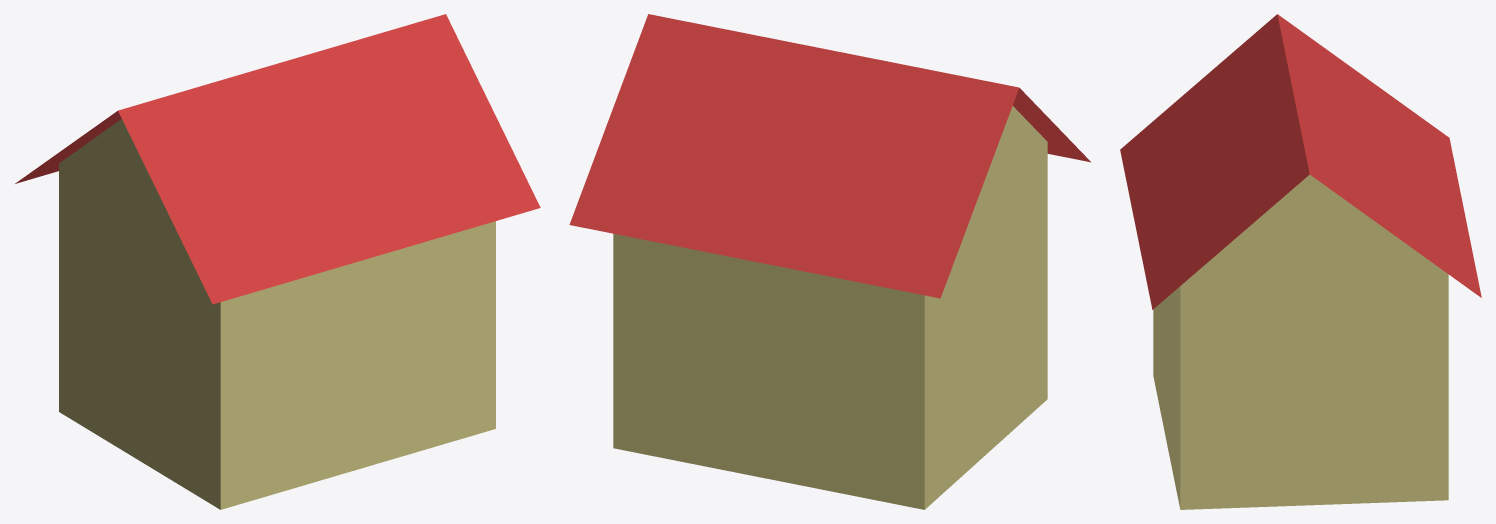
3 views of the same model, side by side, from view 1: azimuth 30°, elevation 25°; view 2: azimuth 150°, elevation 25°; view 3: azimuth 270°, elevation 25° (orthographic). The views are drawn at different scales.
Bounding box in the file's own units: 13.33 × 11.82 × 12.4.
